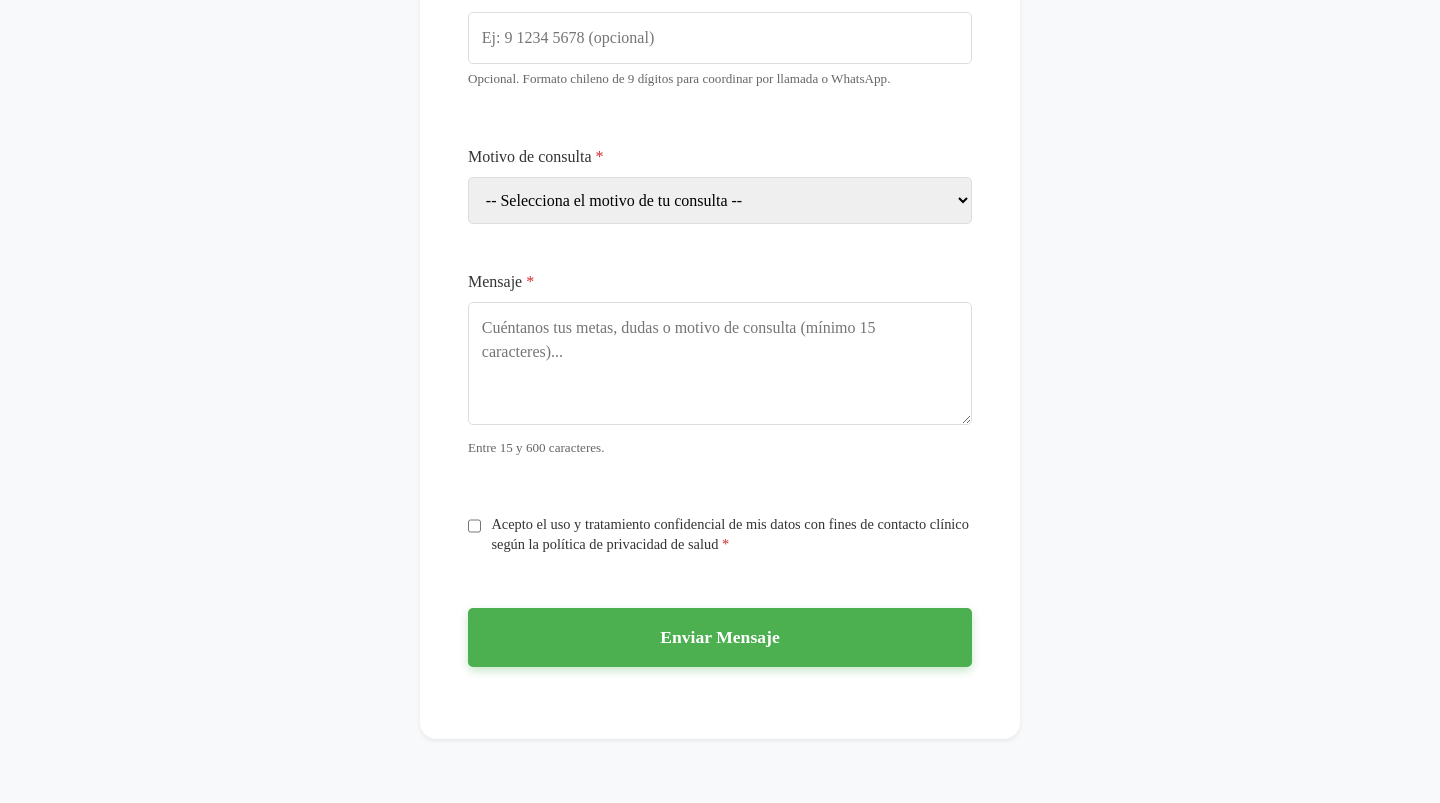
it: Pruebas de interacción del formulario de contacto › debe mostrar el error del nombre al enviar el formulario vacío
(page scrolled)
Click the button "Enviar Mensaje": {"x": 720, "y": 638} [468,608,972,667]
(page scrolled)
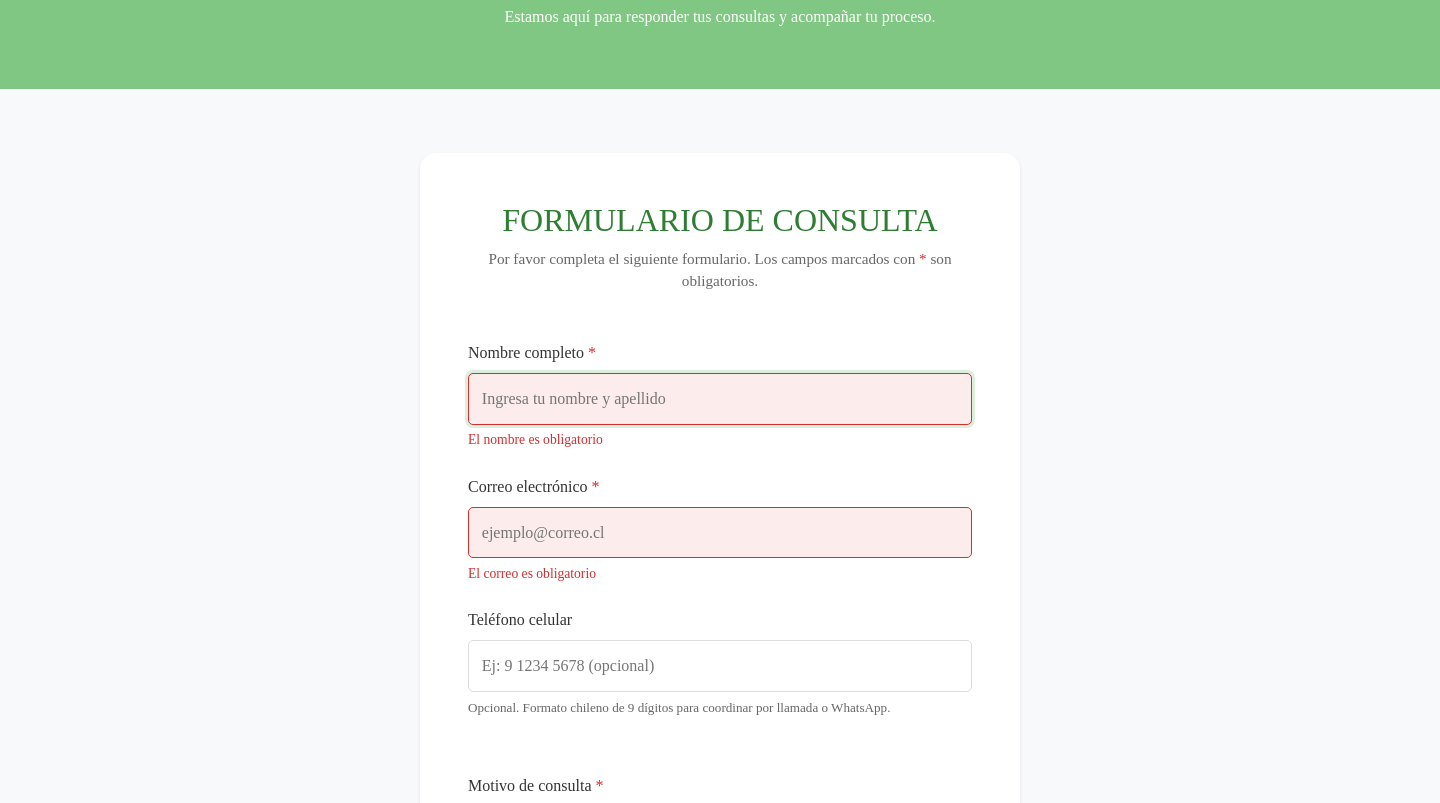
Expected: the text "El nombre es obligatorio" is shown, [468,432,603,447]
